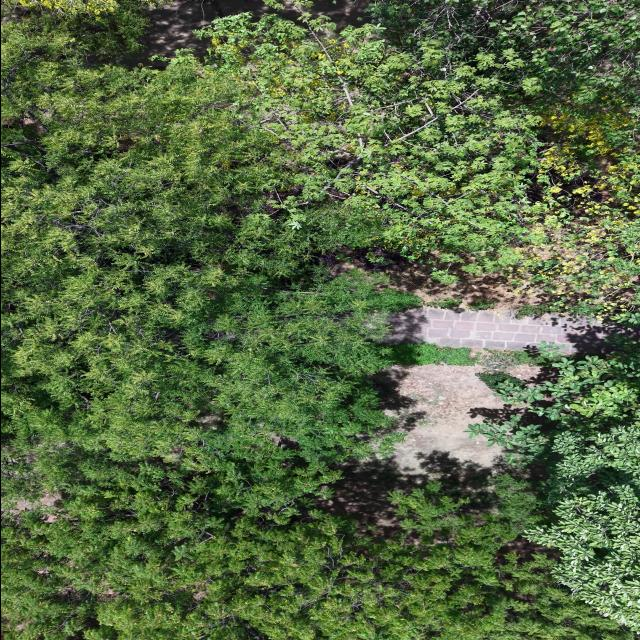DRY_AREA: (318, 364, 518, 535), (319, 364, 521, 533), (318, 364, 513, 534), (319, 365, 512, 530), (321, 364, 513, 525), (348, 248, 639, 351), (318, 247, 549, 309), (374, 364, 504, 472), (343, 249, 552, 311), (385, 306, 639, 352), (347, 247, 538, 307), (347, 247, 536, 307), (127, 0, 298, 62), (386, 307, 625, 351), (360, 251, 540, 308), (390, 307, 576, 348), (133, 0, 250, 60), (421, 307, 572, 350), (305, 0, 369, 29)
PATHWAYS: (385, 307, 638, 352)
VEGETATION_TREE: (1, 0, 639, 639), (2, 6, 416, 511), (211, 0, 639, 313), (3, 457, 630, 639), (2, 465, 631, 639), (212, 15, 538, 271), (468, 343, 639, 630), (382, 342, 546, 367)
